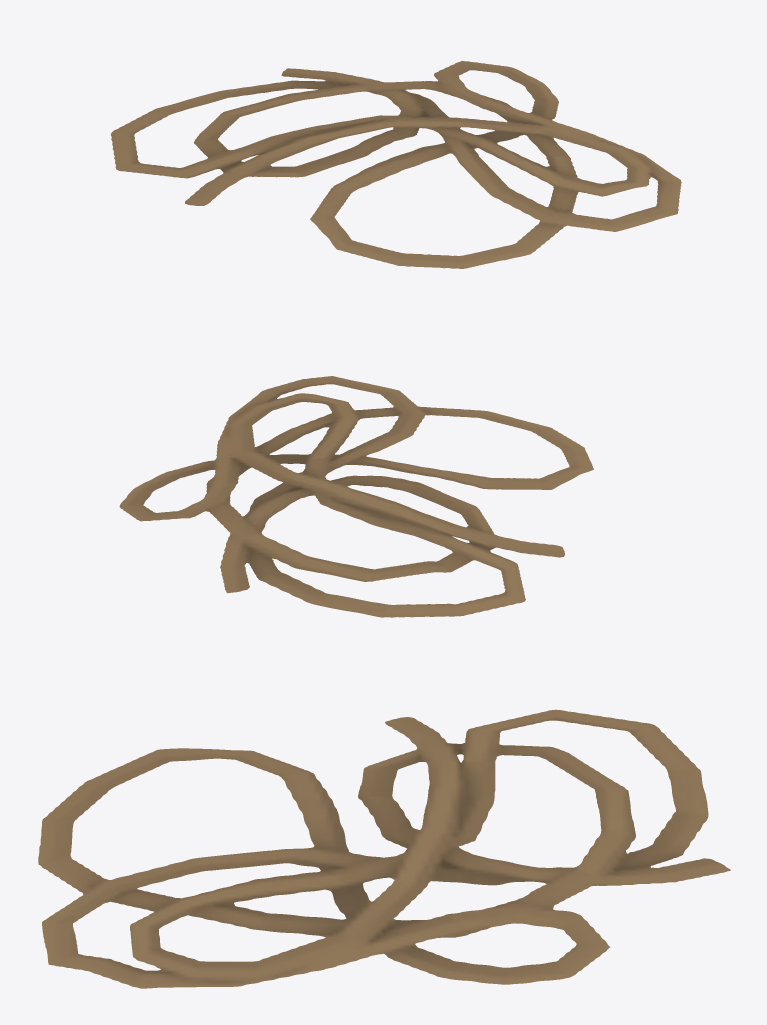
The model's file is SM_Prop_Ropes_01.fbx.
3 renders of one model, top to bottom at view 1: azimuth 30°, elevation 25°; view 2: azimuth 150°, elevation 25°; view 3: azimuth 270°, elevation 25°, orthographic. The views are drawn at different scales.
Visible parts, largest first — view 1: SM_Prop_Ropes_01; view 2: SM_Prop_Ropes_01; view 3: SM_Prop_Ropes_01.
Part boxes in pixels (x1,y1,x2,y2): SM_Prop_Ropes_01: (111,61,681,268); SM_Prop_Ropes_01: (119,376,593,617); SM_Prop_Ropes_01: (38,709,730,988).
Size of the model in its own units: 87.97 by 5.44 by 86.84.
